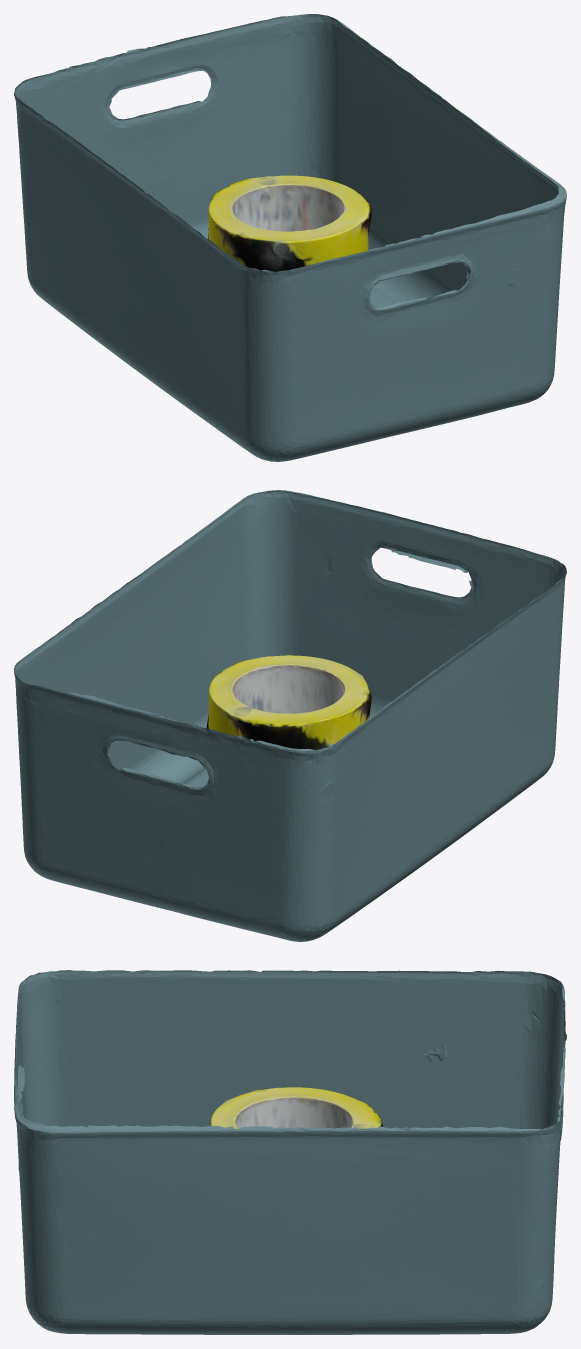
The picture shows the model from 3 angles, top to bottom: view 1: azimuth 30°, elevation 25°; view 2: azimuth 150°, elevation 25°; view 3: azimuth 270°, elevation 25°; orthographic projection. The views are drawn at different scales.
Visible parts, largest first — view 1: world; view 2: world; view 3: world.
Part boxes in pixels (<box>): world: <box>14,14,566,461</box>; world: <box>14,490,566,941</box>; world: <box>14,970,566,1334</box>.
Size of the model in its own units: 0.2539 by 0.1602 by 0.3638.
